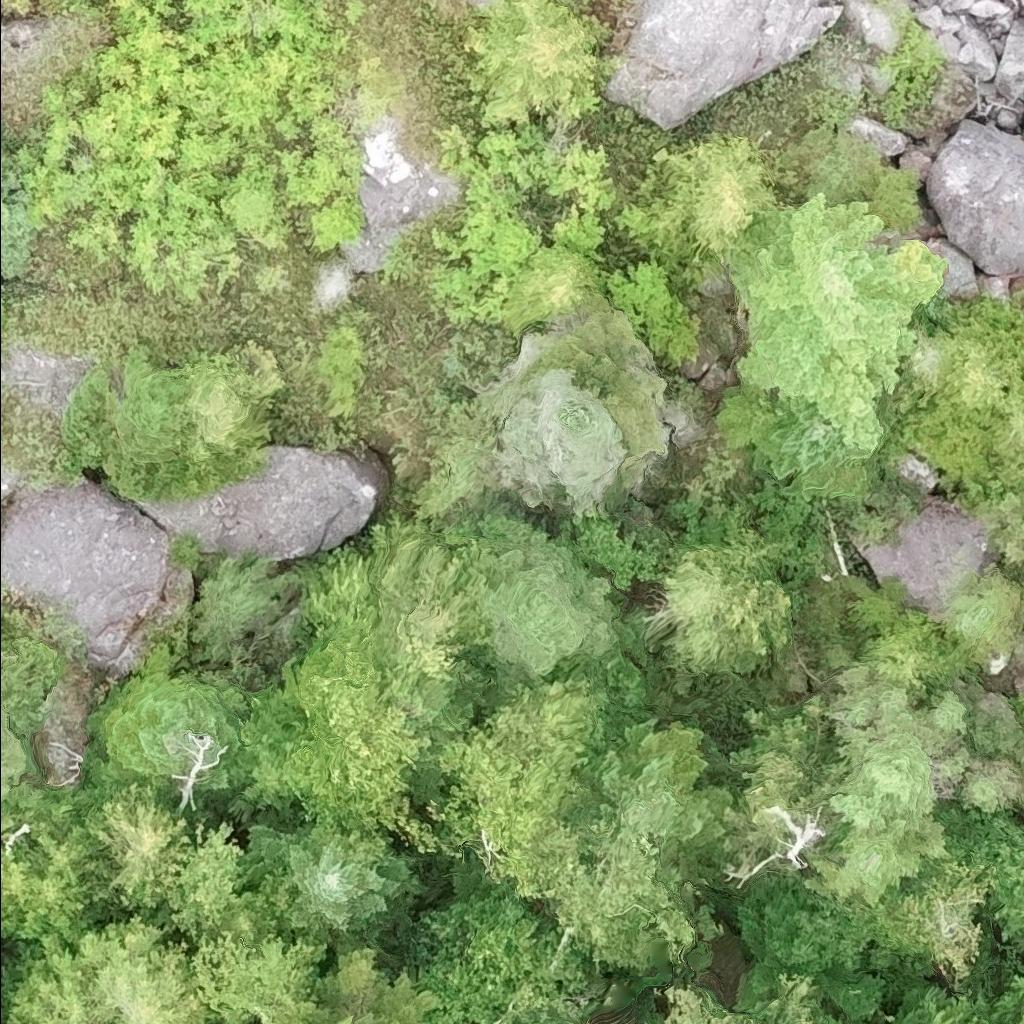crown: (728, 188, 947, 455), (238, 619, 431, 852), (440, 675, 610, 899), (828, 681, 1003, 873), (454, 508, 623, 683), (234, 823, 421, 967), (567, 712, 736, 870), (82, 645, 254, 800), (0, 913, 216, 1023), (416, 893, 588, 1023), (544, 830, 695, 971), (716, 373, 871, 501), (664, 524, 791, 671), (657, 132, 779, 265), (369, 524, 486, 658), (471, 0, 596, 122), (164, 818, 280, 943), (86, 784, 189, 920), (735, 876, 831, 1019), (190, 925, 328, 1023), (273, 944, 443, 1023), (0, 818, 102, 947), (803, 827, 926, 908), (181, 354, 269, 462), (747, 972, 844, 1023), (0, 155, 36, 280), (989, 825, 1023, 942), (0, 704, 27, 828), (913, 988, 1003, 1023), (660, 985, 739, 1023), (1016, 1008, 1023, 1023), (0, 306, 4, 327)
